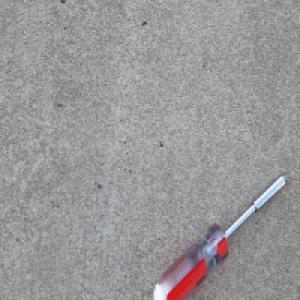Screwdriver: (151, 169, 292, 300)
